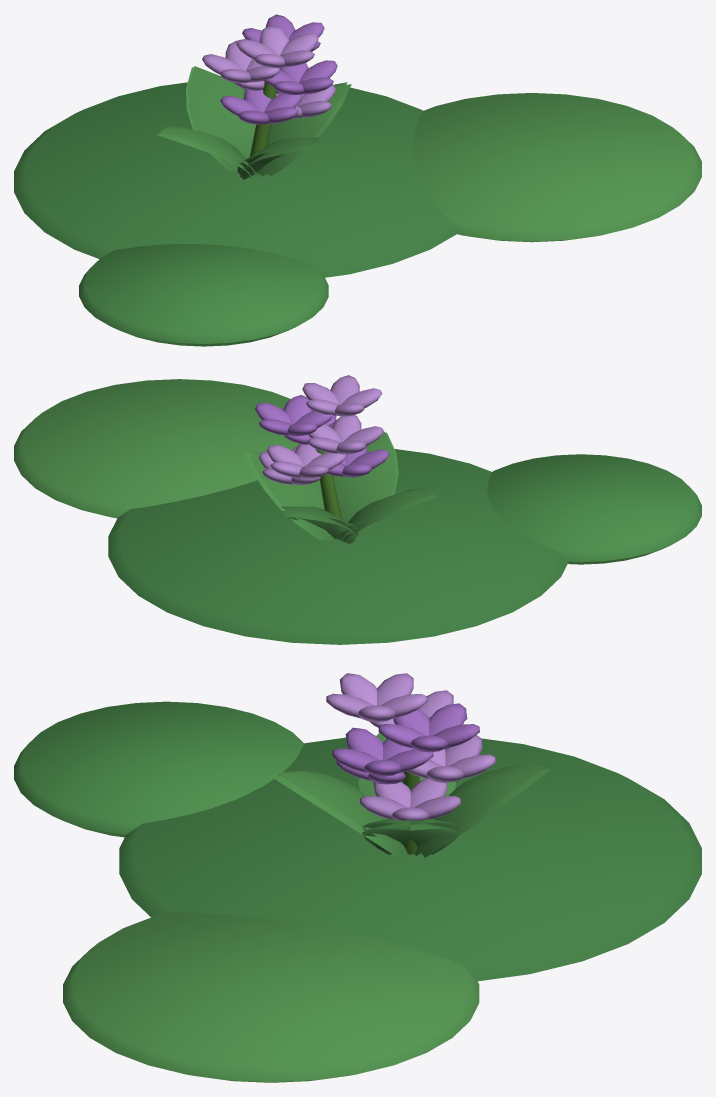
File: hyacinth-hd.glb
3 renders of one model, top to bottom at view 1: azimuth 30°, elevation 25°; view 2: azimuth 150°, elevation 25°; view 3: azimuth 270°, elevation 25°, orthographic. The views are drawn at different scales.
Visible parts, largest first — view 1: hyacinth-hd; view 2: hyacinth-hd; view 3: hyacinth-hd.
Part boxes in pixels (left/top/right/bottom): hyacinth-hd: left=14, top=14, right=701, bottom=346; hyacinth-hd: left=14, top=375, right=701, bottom=644; hyacinth-hd: left=14, top=673, right=701, bottom=1082.
Size of the model in its own units: 1.27 by 0.2973 by 0.9865.
